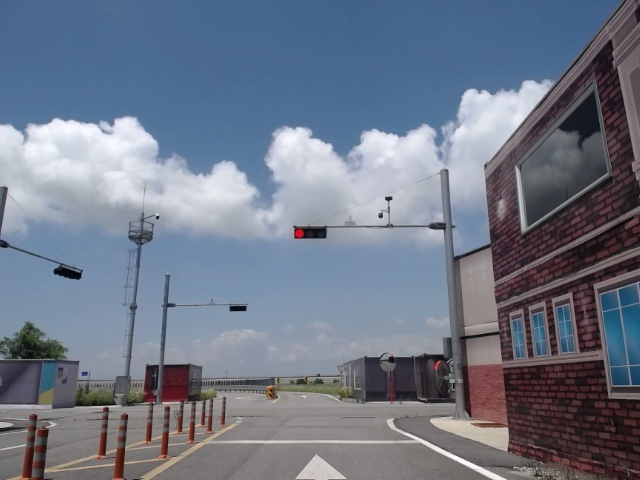red_3: (292, 226, 329, 241)
